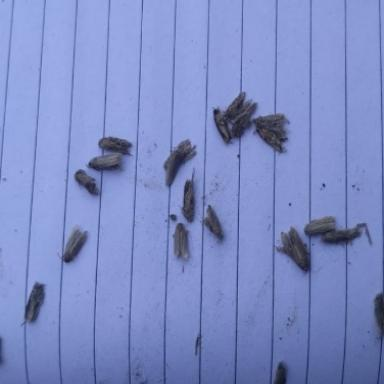pbw: (276, 225, 309, 271), (19, 280, 44, 326), (57, 227, 87, 261), (162, 138, 195, 168), (231, 100, 257, 137), (178, 166, 195, 222), (252, 125, 286, 151), (224, 90, 252, 118), (202, 203, 223, 238), (96, 135, 132, 155), (212, 104, 230, 141), (73, 168, 98, 194), (254, 112, 289, 130), (170, 222, 188, 257), (321, 226, 360, 242), (164, 148, 180, 185), (85, 152, 122, 168), (304, 215, 335, 233)
